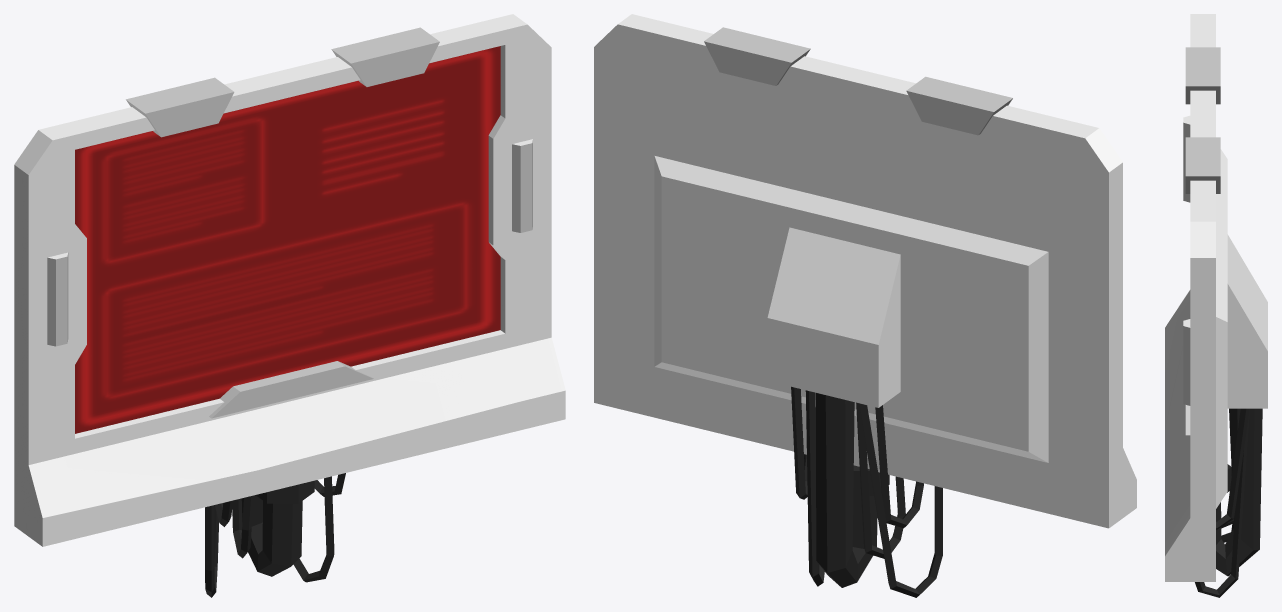
Rendered from WallMonitor_01.fbx.
3 renders of one model, left to right at view 1: azimuth 30°, elevation 25°; view 2: azimuth 150°, elevation 25°; view 3: azimuth 270°, elevation 25°, orthographic. The views are drawn at different scales.
Parts seen in each view (by area): view 1: SM_Prop_Monitor_01_Screen; view 2: SM_Prop_Monitor_01_Screen; view 3: SM_Prop_Monitor_01_Screen.
Part boxes in pixels (<box>): SM_Prop_Monitor_01_Screen: <box>14,14,565,597</box>; SM_Prop_Monitor_01_Screen: <box>594,14,1136,597</box>; SM_Prop_Monitor_01_Screen: <box>1165,14,1267,597</box>.
Bounding box in the file's own units: 145 × 139 × 27.43.
